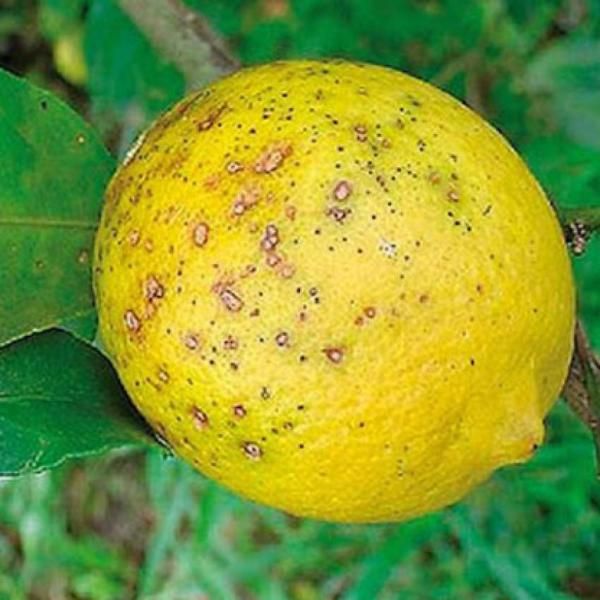Trips: (80, 53, 581, 514)
